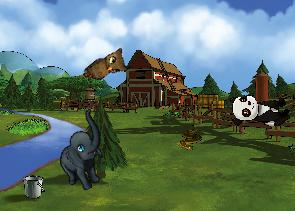elephant: (42, 108, 125, 196)
owl: (80, 43, 134, 94)
panda: (230, 94, 290, 126)
